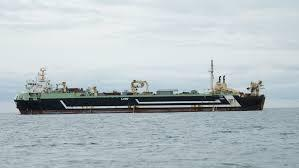Ship: (13, 60, 270, 114)
